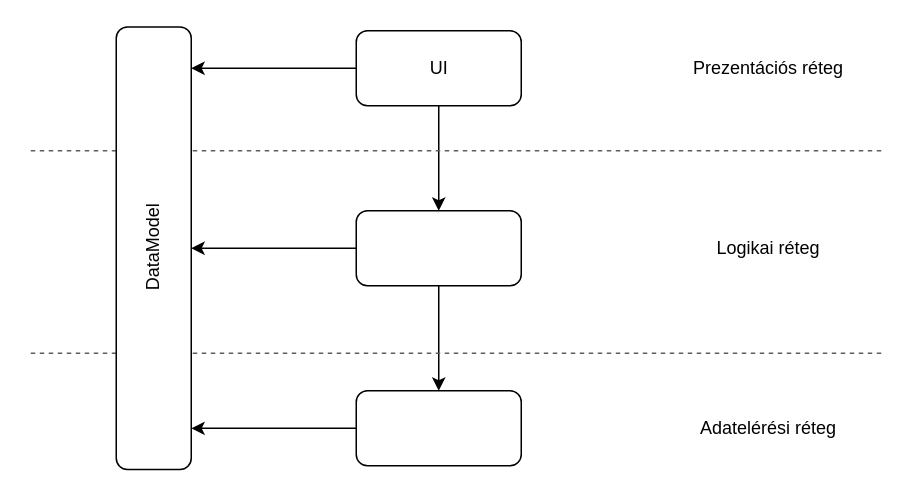
Some shapes in this 909 by 495 pixel diagram are drawn without their labels. The centre of each missing label's shape, as x and y in pixels:
"BusinessLogic" belongs at pixel 438 247.
"DataAccess" belongs at pixel 438 427.
